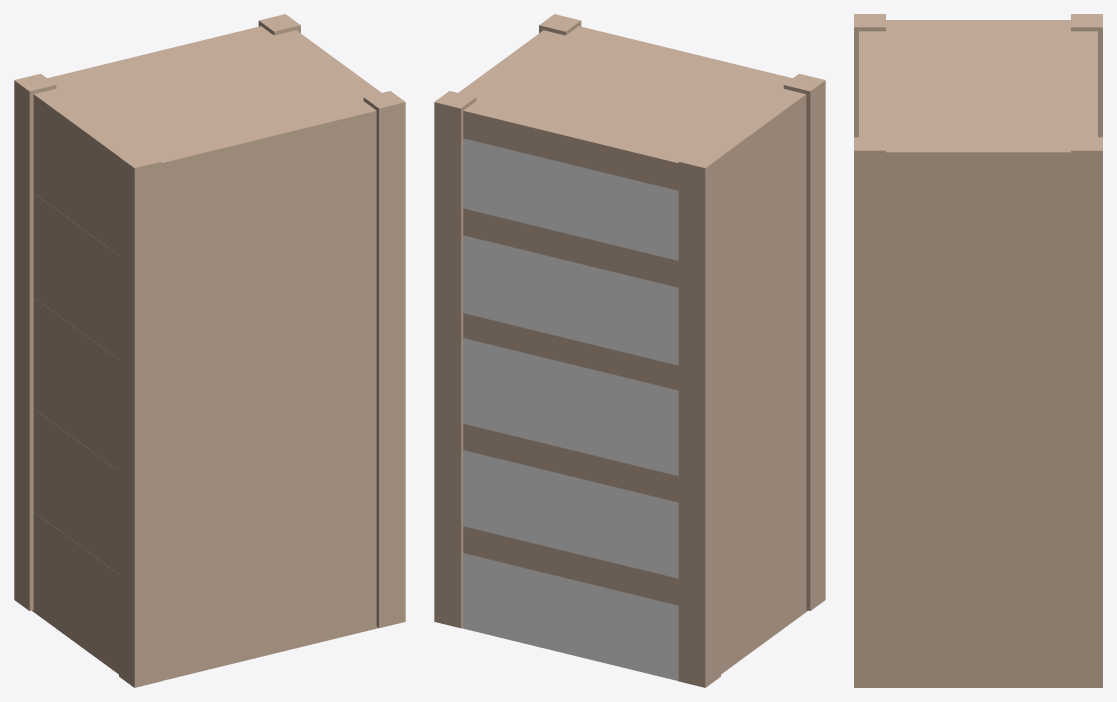
The model's file is Building_3.fbx.
3 renders of one model, left to right at view 1: azimuth 30°, elevation 25°; view 2: azimuth 150°, elevation 25°; view 3: azimuth 270°, elevation 25°, orthographic. The views are drawn at different scales.
Parts seen in each view (by area): view 1: pCube118; view 2: pCube118; view 3: pCube118.
Part boxes in pixels (x1,y1,x2,y2): pCube118: (14, 14, 405, 687); pCube118: (434, 14, 825, 687); pCube118: (854, 14, 1102, 687).
Bounding box in the file's own units: 50.83 × 93.42 × 39.06.
